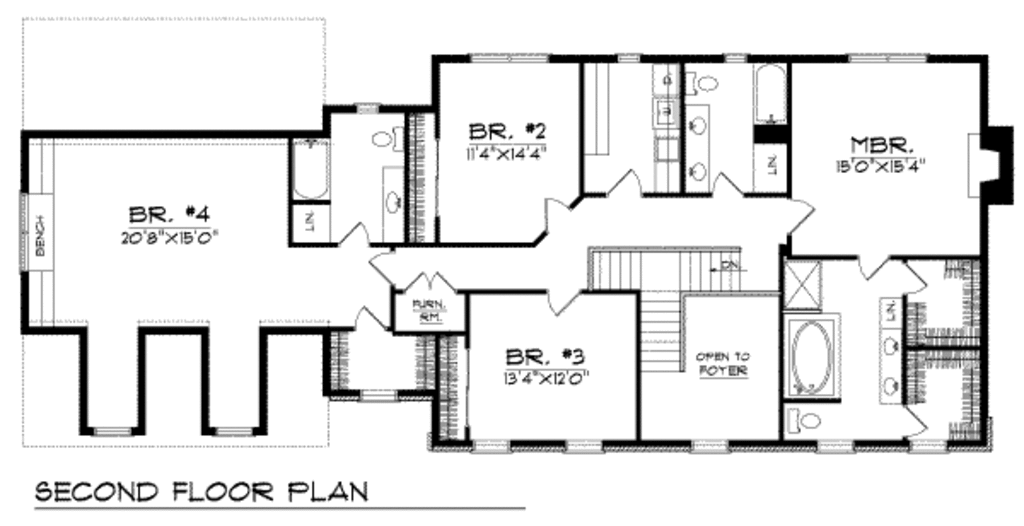door: (536, 193, 576, 233), (603, 165, 644, 199), (780, 198, 814, 239), (854, 248, 890, 284), (364, 251, 396, 290), (543, 287, 584, 317), (333, 222, 376, 247), (709, 171, 742, 196)
large_sink: (679, 67, 721, 102), (781, 407, 825, 437), (361, 124, 401, 156)
small_sink: (678, 104, 714, 196), (876, 325, 910, 403), (380, 163, 408, 244)
stairs: (587, 245, 747, 379)
tub: (786, 309, 844, 401), (291, 138, 329, 203), (751, 60, 788, 126)
windows: (14, 188, 35, 281), (846, 49, 928, 70), (559, 436, 606, 459), (461, 51, 554, 62), (86, 425, 144, 439), (820, 437, 857, 458), (904, 437, 946, 455), (472, 439, 514, 456), (691, 438, 730, 454), (211, 426, 252, 440)
